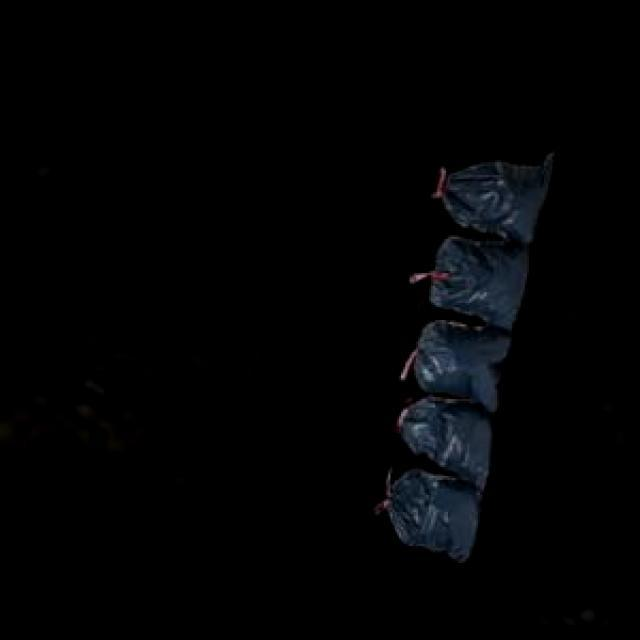Trashbag: (447, 150, 559, 244), (434, 236, 532, 328), (404, 396, 494, 482), (417, 321, 506, 404), (390, 474, 476, 552)
